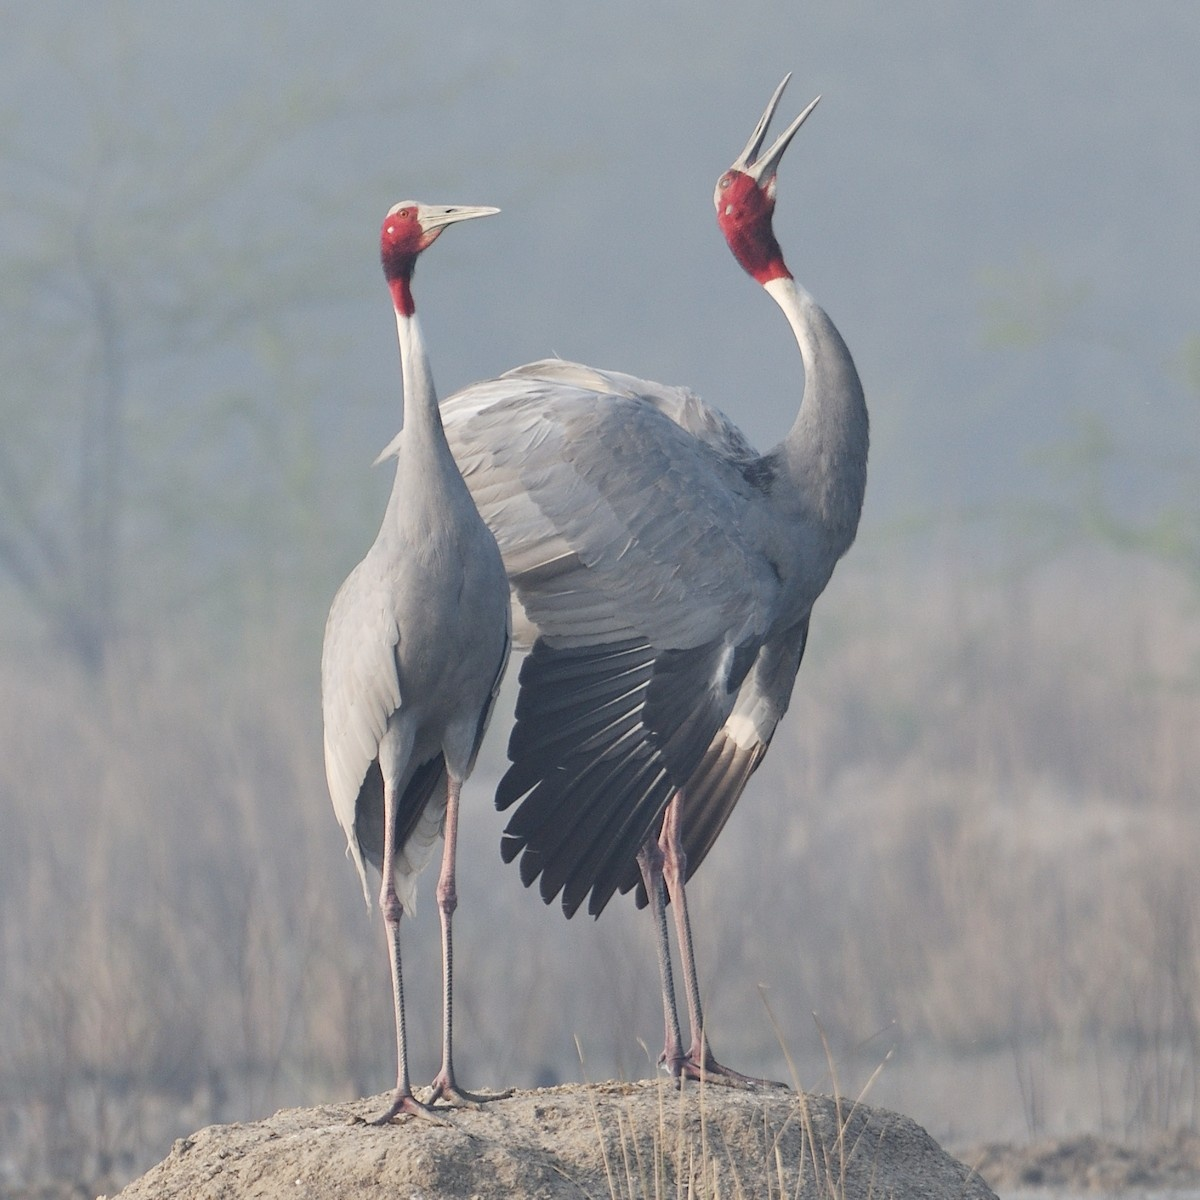crane: (427, 68, 875, 1099), (321, 178, 519, 1149)
